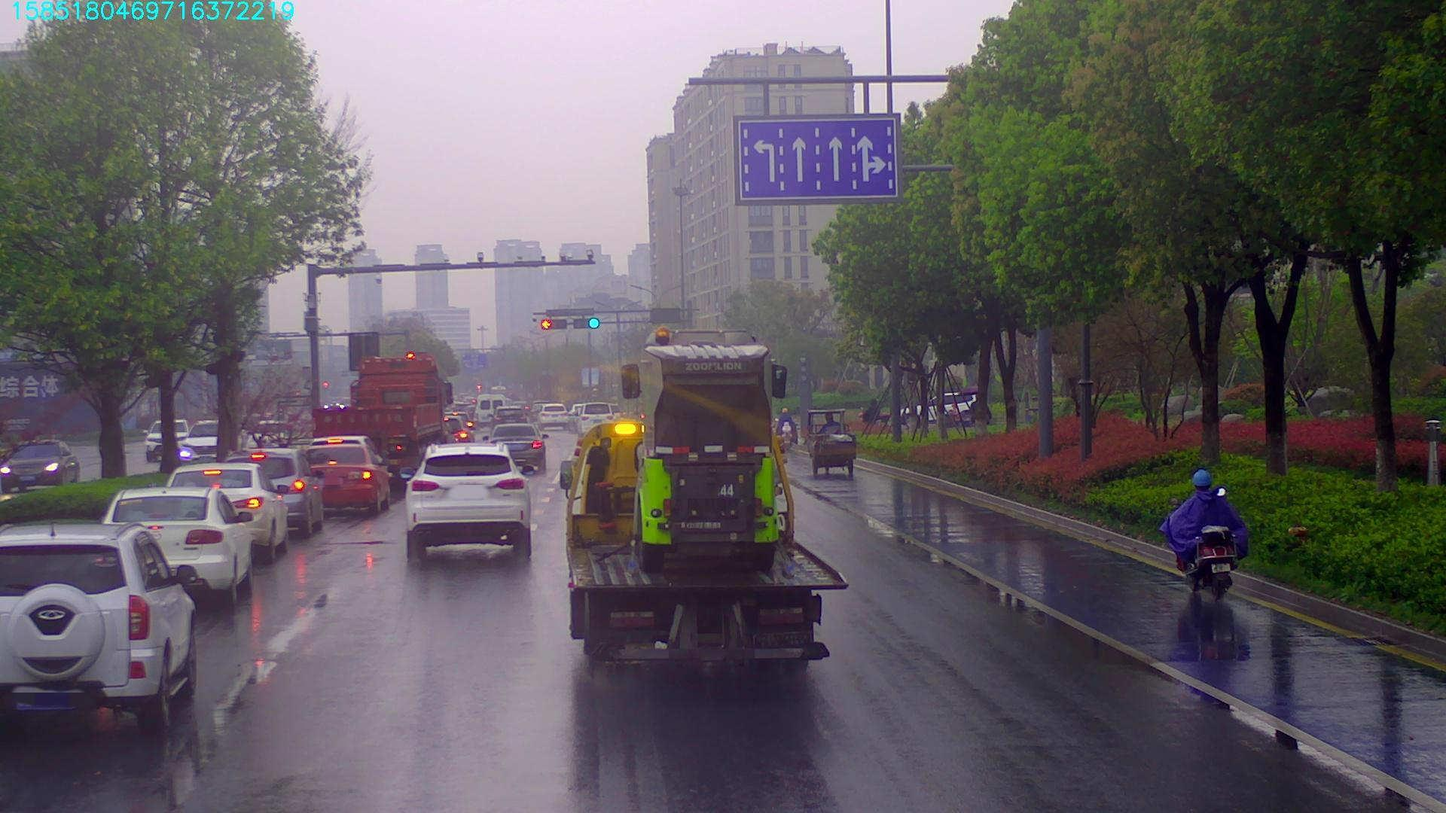green: (571, 319, 599, 330)
red: (540, 315, 566, 330)
